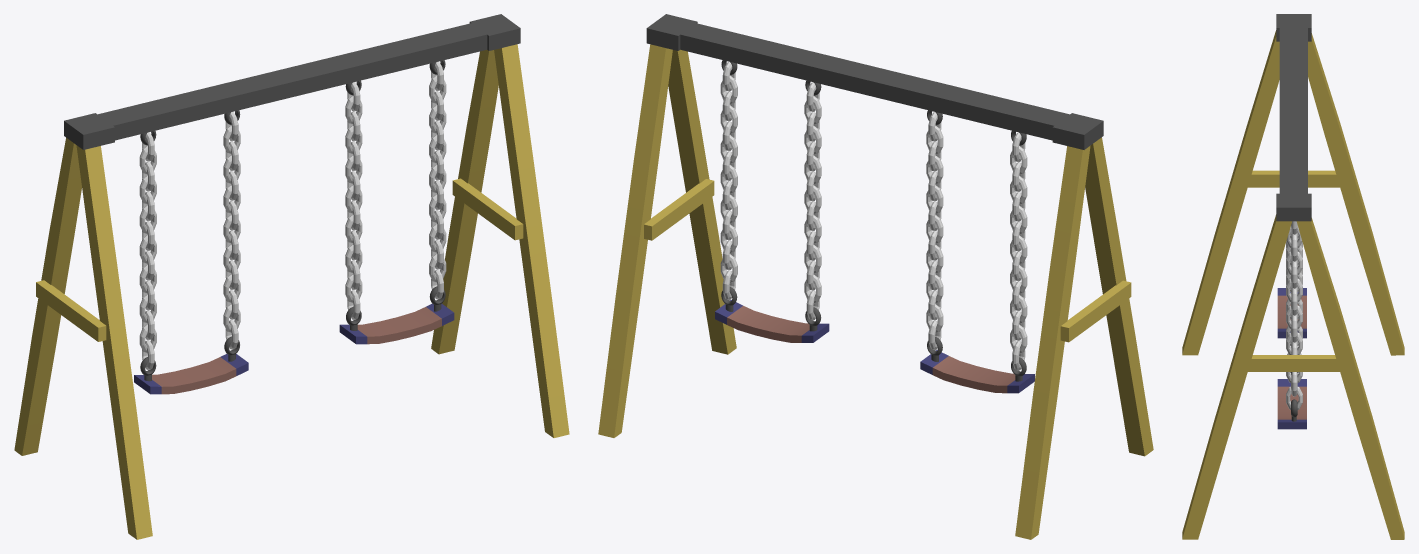
File: Swing.fbx
3 renders of one model, left to right at view 1: azimuth 30°, elevation 25°; view 2: azimuth 150°, elevation 25°; view 3: azimuth 270°, elevation 25°, orthographic. The views are drawn at different scales.
Visible parts, largest first — view 1: pCube99, pCube91, pCube94, pCube92, pCube96, pCube101, pCube100, pCube95, pCube93, pCube97, pCube98; view 2: pCube99, pCube92, pCube96, pCube91, pCube94, pCube100, pCube101, pCube93, pCube95, pCube97, pCube98; view 3: pCube94, pCube96, pCube91, pCube92, pCube99, pCube95, pCube101, pCube93, pCube98, pCube100, pCube97.
Boxes of the visible parts, x1,y1,x2,y2 form: pCube99: [88, 21, 495, 140]; pCube91: [76, 145, 152, 539]; pCube94: [494, 44, 569, 437]; pCube92: [14, 137, 81, 455]; pCube96: [431, 50, 498, 354]; pCube101: [339, 303, 454, 344]; pCube100: [134, 354, 248, 394]; pCube95: [452, 178, 523, 240]; pCube93: [36, 280, 106, 341]; pCube97: [64, 113, 114, 149]; pCube98: [469, 14, 520, 50]; pCube99: [680, 21, 1079, 140]; pCube92: [1015, 145, 1090, 539]; pCube96: [598, 44, 672, 437]; pCube91: [1085, 137, 1153, 456]; pCube94: [668, 49, 736, 354]; pCube100: [920, 350, 1034, 393]; pCube101: [715, 300, 829, 342]; pCube93: [1060, 280, 1131, 342]; pCube95: [644, 179, 714, 240]; pCube97: [1052, 113, 1103, 149]; pCube98: [646, 14, 697, 50]; pCube94: [1182, 214, 1291, 539]; pCube96: [1296, 218, 1404, 539]; pCube91: [1182, 30, 1279, 355]; pCube92: [1308, 33, 1404, 355]; pCube99: [1279, 23, 1307, 197]; pCube95: [1248, 355, 1339, 371]; pCube101: [1277, 379, 1306, 429]; pCube93: [1248, 170, 1339, 187]; pCube98: [1276, 193, 1311, 221]; pCube100: [1277, 288, 1306, 338]; pCube97: [1276, 14, 1311, 41].
Bounding box in the file's own units: 166 × 131 × 79.49.
